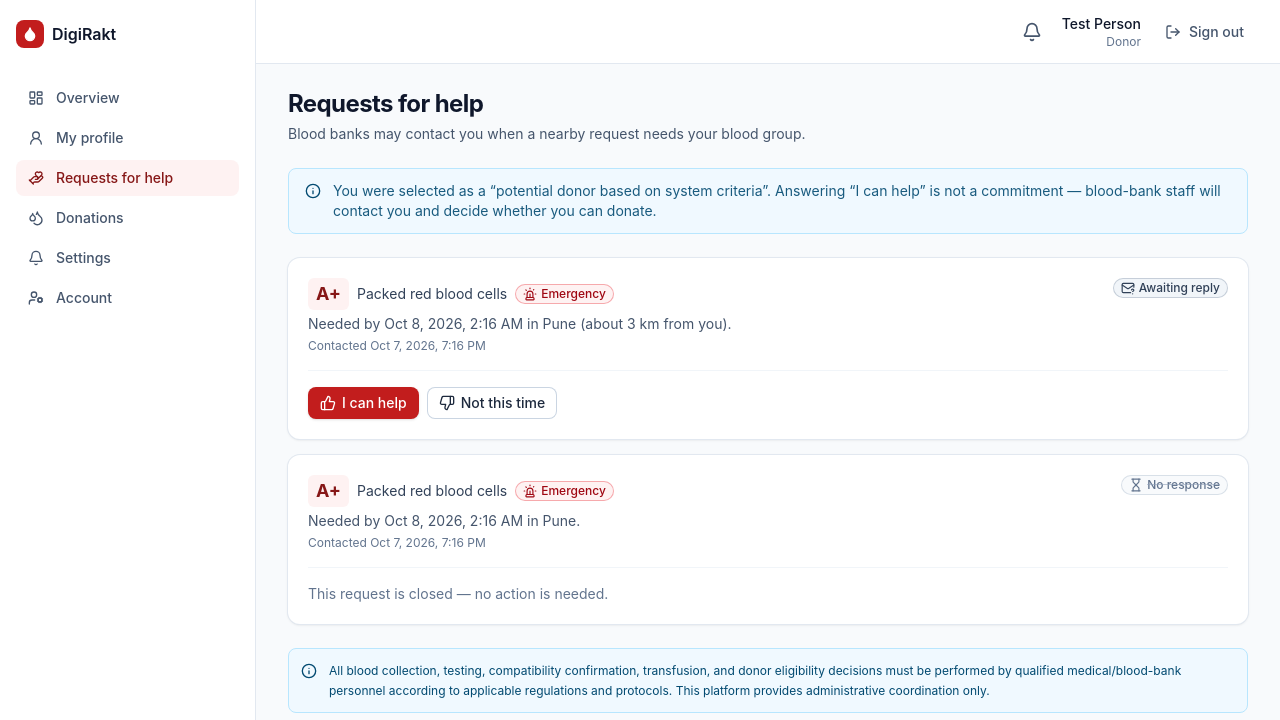
donor requests for help › lets a donor say they can help, without showing hospital details
Expected: the text "about 3 km from you" is shown, [576, 315, 728, 332]
Expected: the text "This request is closed — no action is needed." is shown, [308, 567, 1228, 604]
Click the button "I can help" at (363, 403), box [308, 387, 419, 419]
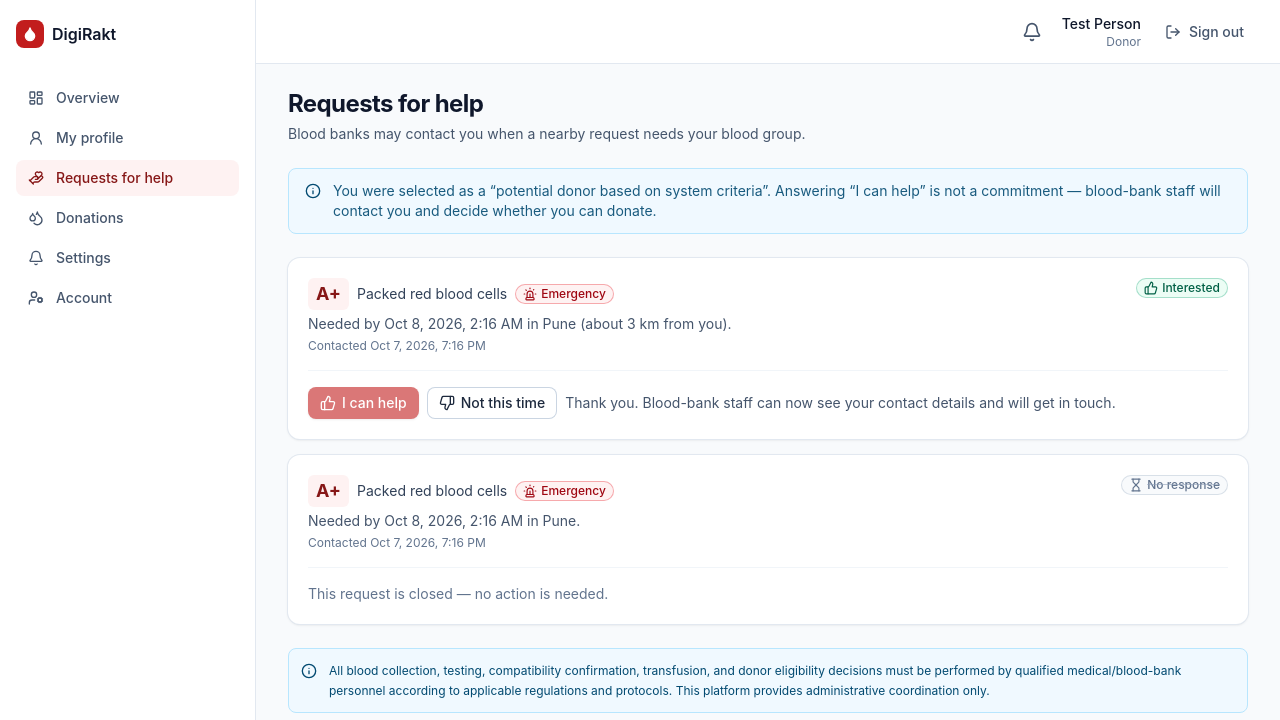
Expected: the text "staff can now see your contact details" is shown, [565, 394, 1116, 411]
